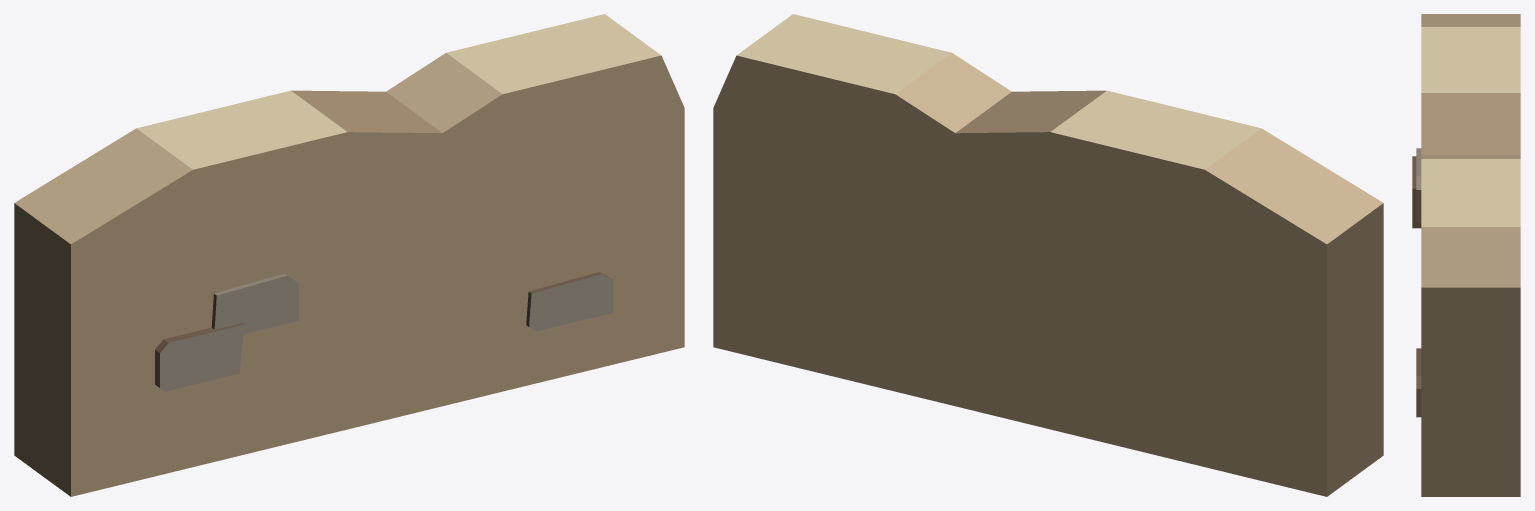
Rendered from TB_D_Bd_Fence_Dirt_B.FBX.
3 views of the same model, side by side, from view 1: azimuth 30°, elevation 25°; view 2: azimuth 150°, elevation 25°; view 3: azimuth 270°, elevation 25° (orthographic). The views are drawn at different scales.
Visible parts, largest first — view 1: TB_D_Bd_Fence_Dirt_B; view 2: TB_D_Bd_Fence_Dirt_B; view 3: TB_D_Bd_Fence_Dirt_B.
Part boxes in pixels (box(x1,y1,x2,y2)): TB_D_Bd_Fence_Dirt_B: box(14, 14, 684, 496); TB_D_Bd_Fence_Dirt_B: box(713, 14, 1383, 496); TB_D_Bd_Fence_Dirt_B: box(1412, 14, 1520, 496).
Size of the model in its own units: 2.5 by 1.16 by 0.4358.
